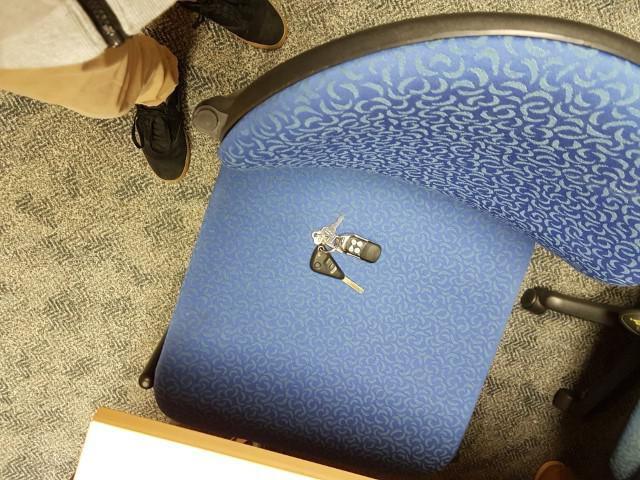key: (304, 244, 368, 294)
